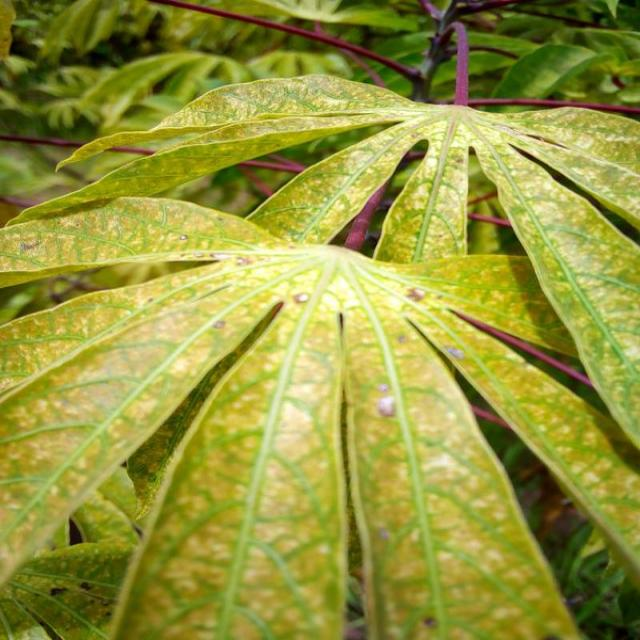cassava leaf: (2, 24, 640, 637)
